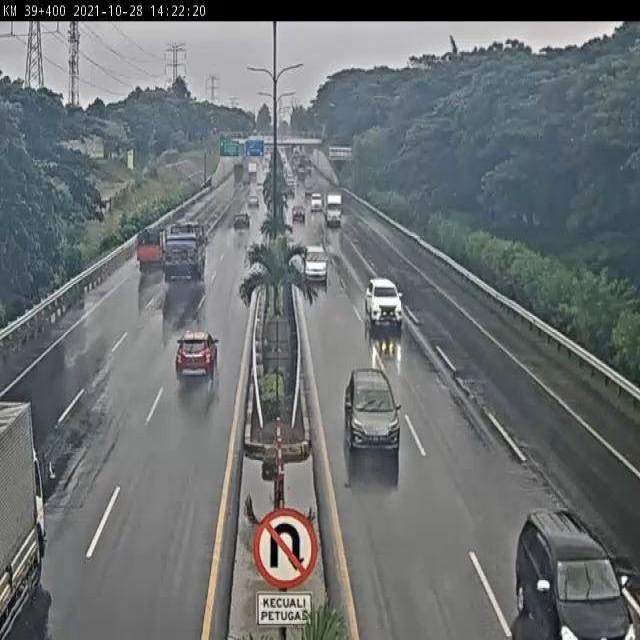car: (513, 504, 640, 640), (345, 366, 406, 458), (174, 327, 219, 377), (365, 276, 403, 327), (304, 245, 331, 283), (232, 212, 251, 233)
truck-l-: (0, 389, 49, 636), (159, 221, 208, 280)
truck-s-: (133, 228, 168, 272)
